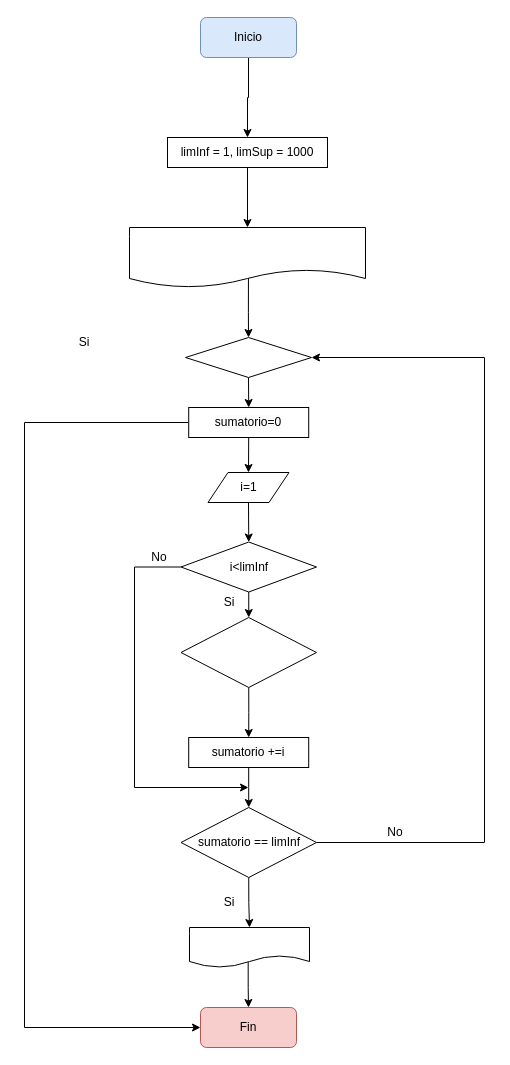
Image size: 510x1065. Some labels were removed from this diagram. The shapes that lost their labels are listed below. From the top down, each one's centre as x and y in pixels, then its label:
(x=247, y=257): "Se imprimirán por pantalla los numeros perfectos enteros hasta el 1000"
(x=248, y=357): limInf <= limSup
(x=248, y=652): limInf es divisible entre i?
(x=249, y=947): Mostrar números
